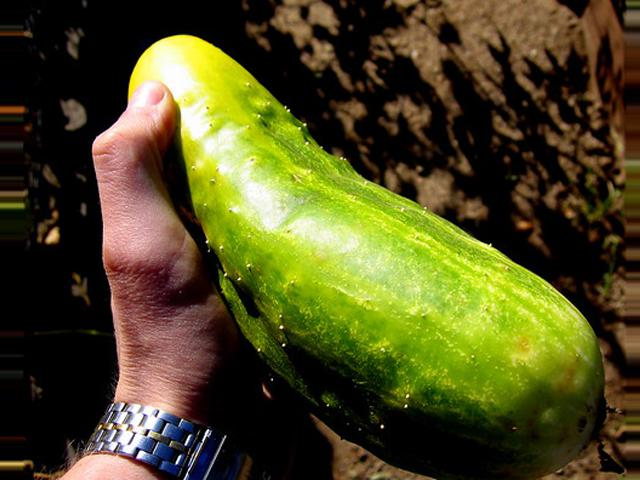cucumber: (127, 35, 606, 480)
